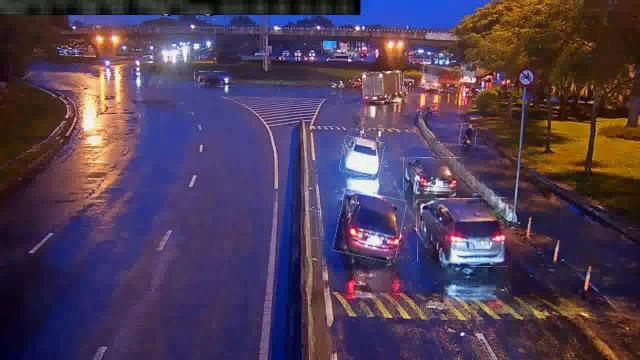Bike: (460, 124, 476, 146)
Car: (417, 198, 508, 268), (336, 192, 404, 260), (404, 158, 460, 198), (341, 138, 384, 176), (195, 71, 231, 87)
Truck: (362, 71, 402, 102), (422, 66, 461, 90)
